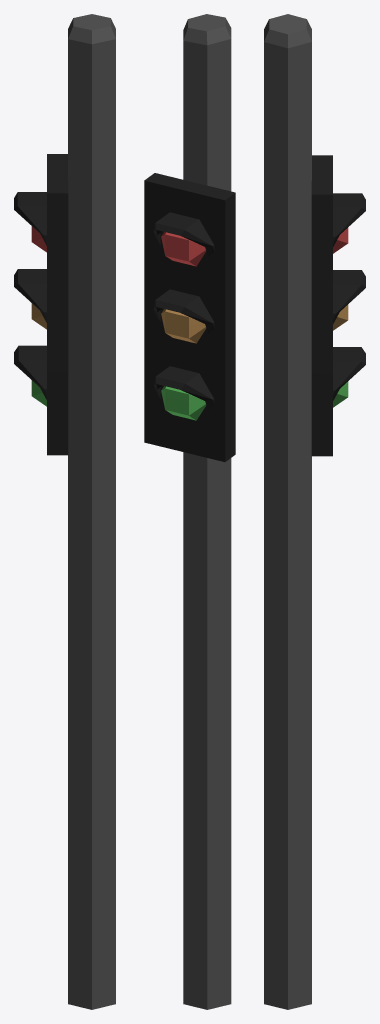
File: traffic light.glb
The picture shows the model from 3 angles, left to right: view 1: azimuth 90°, elevation 25°; view 2: azimuth 150°, elevation 25°; view 3: azimuth 270°, elevation 25°; orthographic projection.
Parts seen in each view (by area): view 1: Traffic_light_02; view 2: Traffic_light_02; view 3: Traffic_light_02.
Boxes of the visible parts, bbox=[...] form: Traffic_light_02: bbox=[14, 14, 115, 1009]; Traffic_light_02: bbox=[144, 14, 235, 1009]; Traffic_light_02: bbox=[264, 14, 365, 1009].
Size of the model in its own units: 22 by 254 by 23.98.
Materials: 1 (1 with a texture image).
